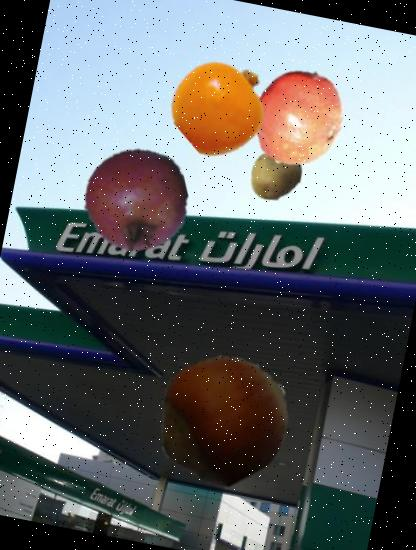Clementine: (239, 58, 358, 176)
Nut: (144, 340, 302, 498)
Physalis: (164, 47, 280, 163)
Pomegranate: (74, 138, 197, 261)
Potato: (245, 144, 308, 206)
